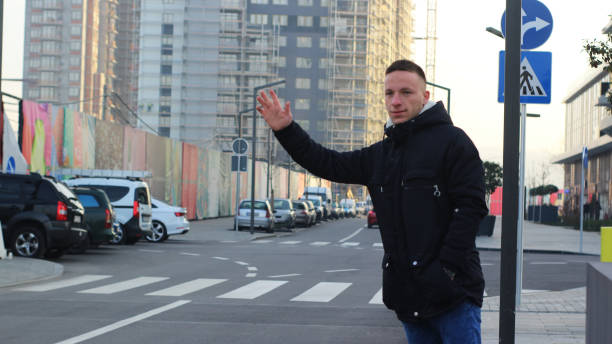otomobil: (63, 146, 197, 253), (0, 160, 85, 271), (232, 200, 282, 234)
yaya: (228, 53, 517, 343)
